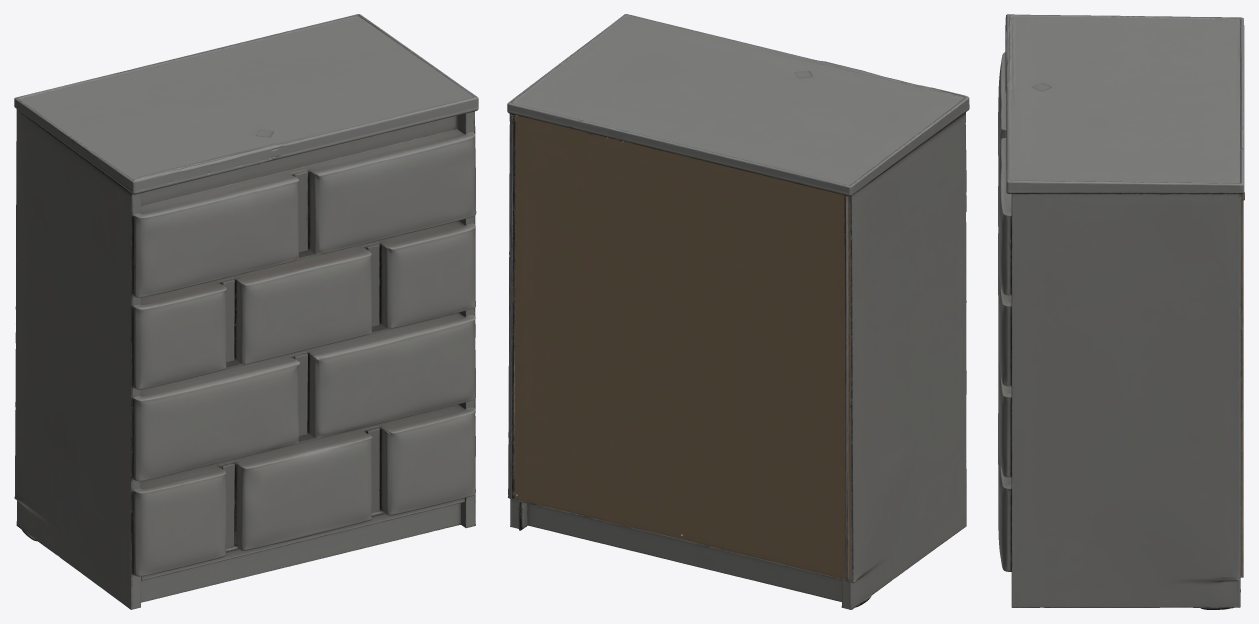
The model's file is No Name-09.glb.
3 renders of one model, left to right at view 1: azimuth 30°, elevation 25°; view 2: azimuth 150°, elevation 25°; view 3: azimuth 270°, elevation 25°, orthographic.
Parts seen in each view (by area): view 1: tripo_node_976ee6e2-a642-46d2-bde9-a215cdfd8f70; view 2: tripo_node_976ee6e2-a642-46d2-bde9-a215cdfd8f70; view 3: tripo_node_976ee6e2-a642-46d2-bde9-a215cdfd8f70.
Part boxes in pixels (x1=…): tripo_node_976ee6e2-a642-46d2-bde9-a215cdfd8f70: x1=14, y1=14, x2=478, y2=609; tripo_node_976ee6e2-a642-46d2-bde9-a215cdfd8f70: x1=507, y1=14, x2=969, y2=609; tripo_node_976ee6e2-a642-46d2-bde9-a215cdfd8f70: x1=998, y1=14, x2=1244, y2=609.
Bounding box in the file's own units: 0.8306 × 0.9848 × 0.5128.
1 material, 1 textured.
